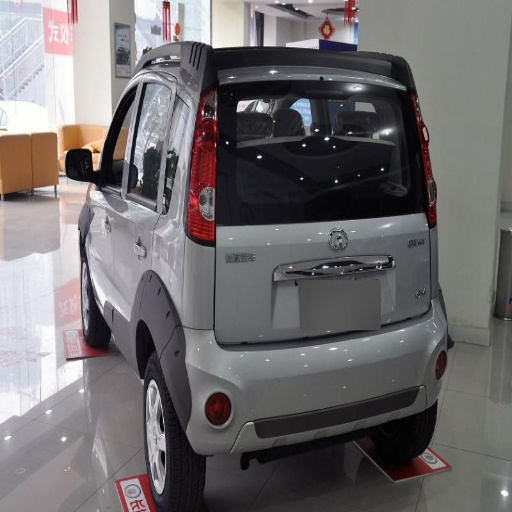back_bumper: (187, 311, 444, 446)
back_glass: (241, 77, 413, 213)
back_left_door: (114, 193, 143, 306)
tailgate: (301, 278, 428, 336)
trunk: (214, 169, 429, 346)
